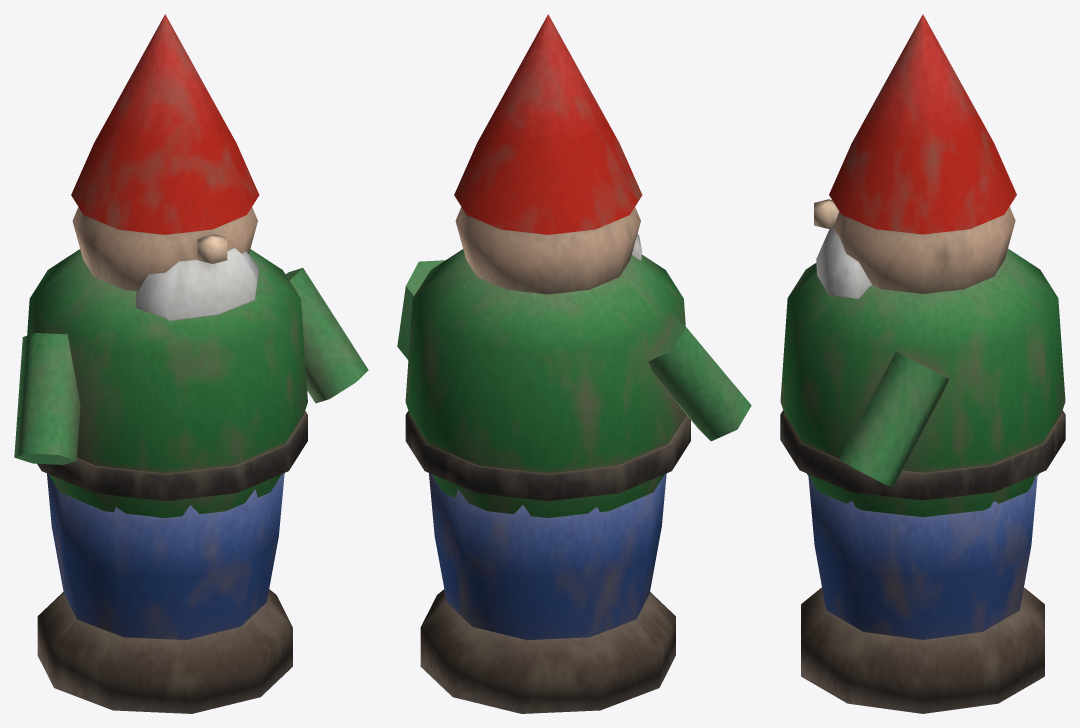
The model's file is pod_krasnal.glb.
The picture shows the model from 3 angles, left to right: view 1: azimuth 30°, elevation 25°; view 2: azimuth 150°, elevation 25°; view 3: azimuth 270°, elevation 25°; orthographic projection.
Parts seen in each view (by area): view 1: Krasnal; view 2: Krasnal; view 3: Krasnal.
Part boxes in pixels (box(x1,y1,x2,y2)): Krasnal: box(14, 14, 368, 713); Krasnal: box(397, 14, 751, 713); Krasnal: box(780, 14, 1065, 713).
Size of the model in its own units: 0.2762 by 0.5 by 0.2.
1 material, 1 textured.
